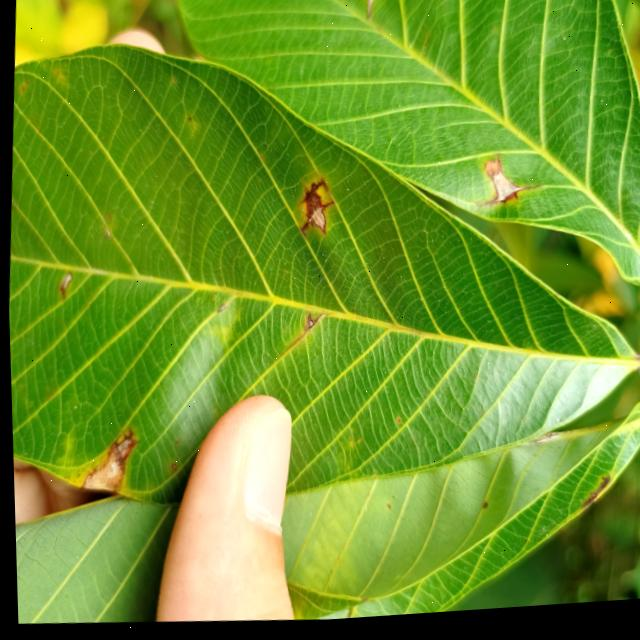Corynespora: (296, 181, 337, 243), (475, 188, 538, 220)
Leaf-Blight: (77, 446, 124, 495), (482, 165, 521, 209)
